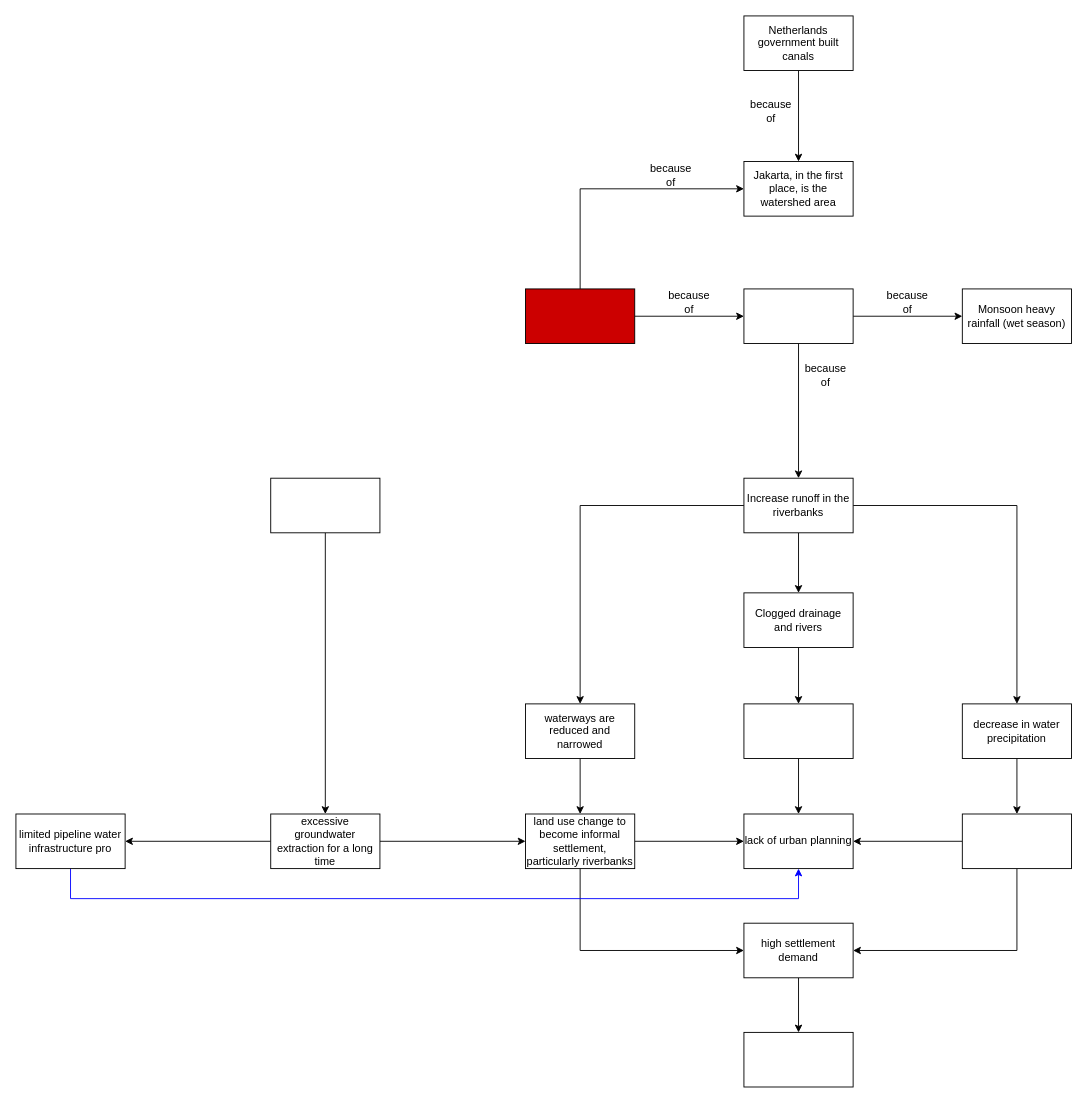
Some shapes in this 1087 by 1103 pixel diagram are drawn without their labels. The shapes that lost their labels are listed below. From the top down, each one's centre as x and y in pixels, then its label:
At (x=580, y=316): "Jakarta City is sinking with alarming rate".
At (x=798, y=316): "River flooding (mainly in Ciliwung River)".
At (x=325, y=505): "land subsidence".
At (x=798, y=730): "poor waste management system".
At (x=1016, y=841): "loss of green space and floodplain".
At (x=798, y=1059): "rapid urbanization from rural to Jakarta since 1945".
